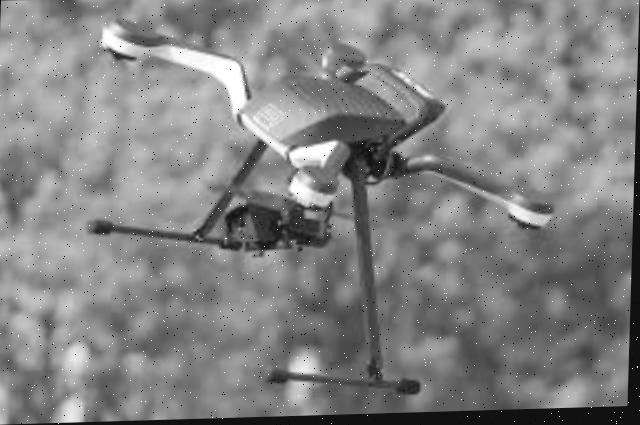drone: (71, 4, 559, 413)
